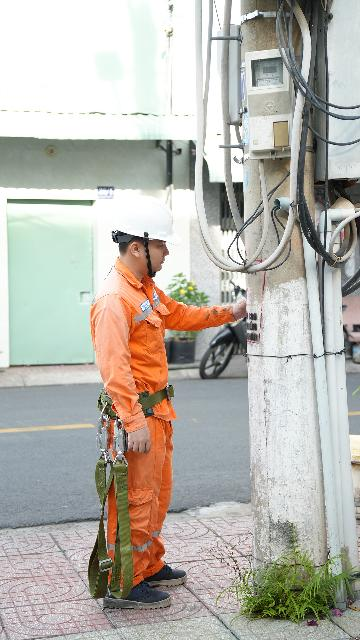harness: (95, 381, 181, 420)
helmet: (106, 181, 189, 251)
shoes: (102, 571, 173, 614), (136, 553, 193, 588)
